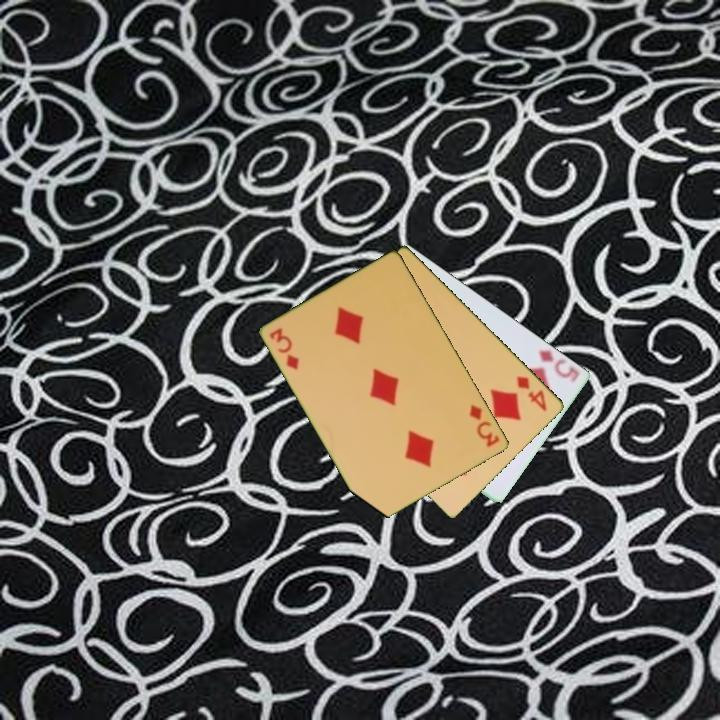3d: (466, 401, 503, 450), (266, 324, 302, 373)
4d: (513, 372, 550, 414)
5d: (534, 346, 583, 382)
